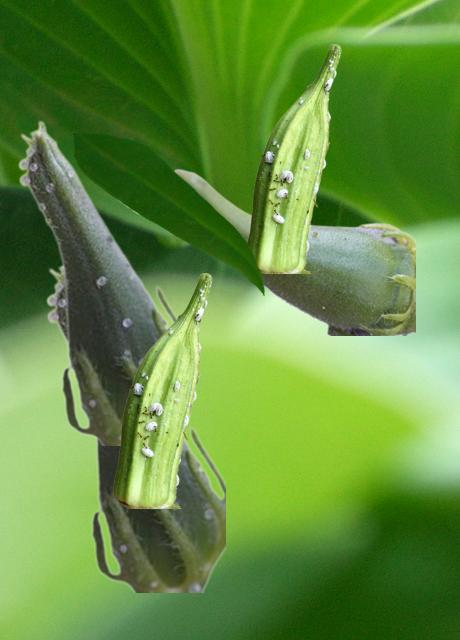okra: (45, 265, 224, 591), (17, 120, 176, 444), (174, 168, 414, 334), (113, 273, 211, 507), (247, 44, 340, 272)
